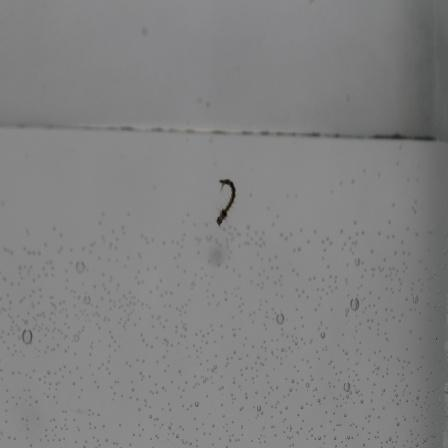Jentik-Nyamuk: (212, 172, 240, 233)
